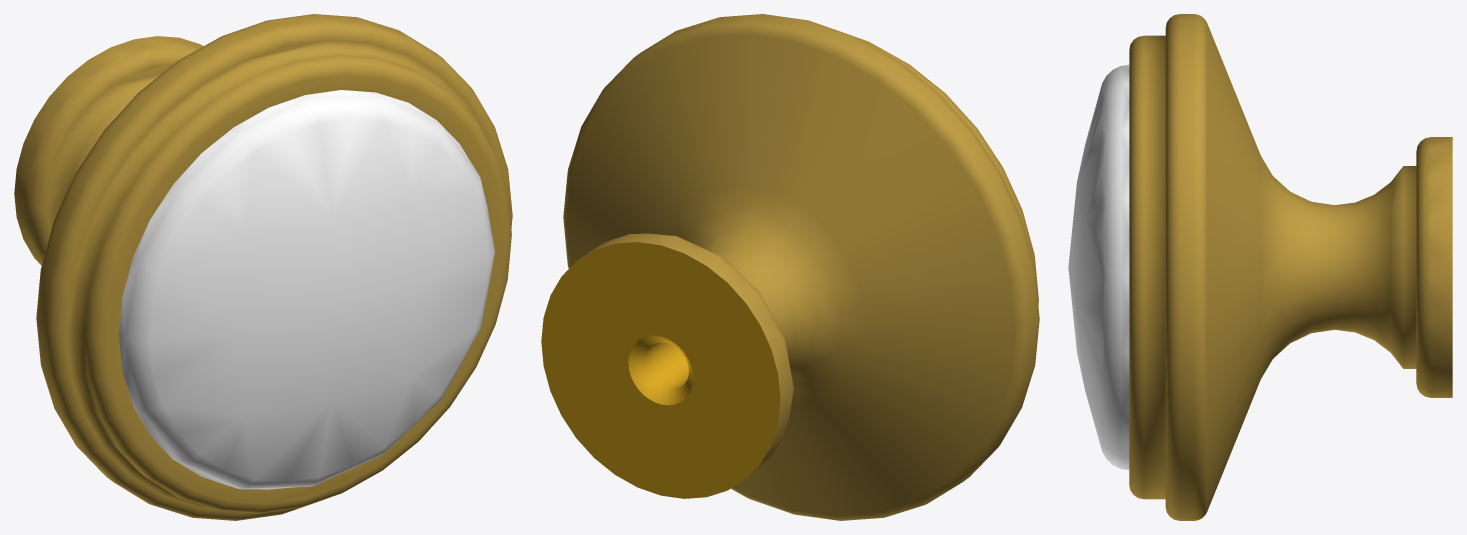
Rendered from furniture_handle_17.glb.
3 renders of one model, left to right at view 1: azimuth 30°, elevation 25°; view 2: azimuth 150°, elevation 25°; view 3: azimuth 270°, elevation 25°, orthographic. The views are drawn at different scales.
Visible parts, largest first — view 1: poignee17; view 2: poignee17; view 3: poignee17.
Boxes of the visible parts, <box> form: poignee17: <box>14,14,512,520</box>; poignee17: <box>541,14,1039,520</box>; poignee17: <box>1068,14,1452,520</box>.
Bounding box in the file's own units: 0.035 × 0.035 × 0.0265.
